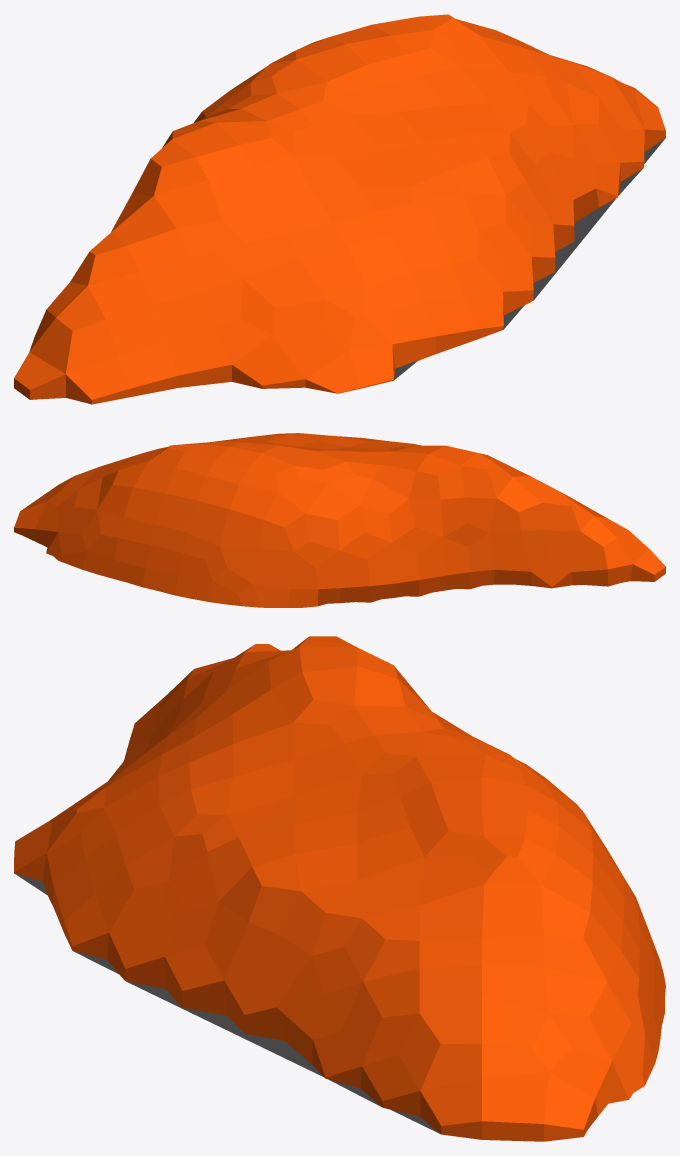
3 renders of one model, top to bottom at view 1: azimuth 30°, elevation 25°; view 2: azimuth 150°, elevation 25°; view 3: azimuth 270°, elevation 25°, orthographic. The views are drawn at different scales.
Parts seen in each view (by area): view 1: 19.001; view 2: 19.001; view 3: 19.001.
Part boxes in pixels (left/top/right/bottom): 19.001: left=14, top=14, right=665, bottom=404; 19.001: left=14, top=433, right=665, bottom=607; 19.001: left=14, top=636, right=665, bottom=1141.
Bounding box in the file's own units: 8.32 × 1.67 × 5.24.
